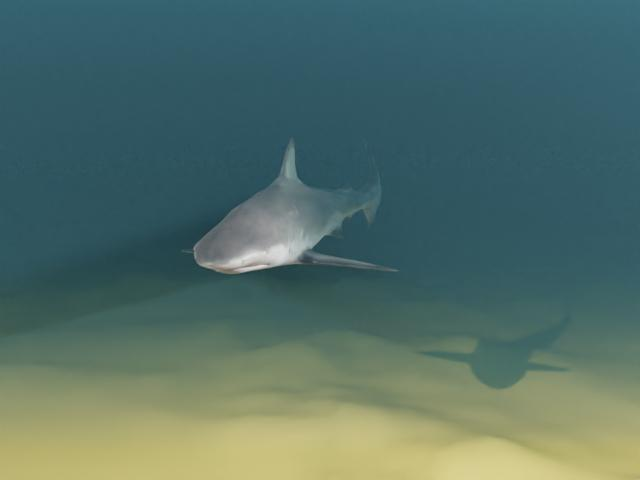Carribean Shark.001: (181, 136, 398, 273)
